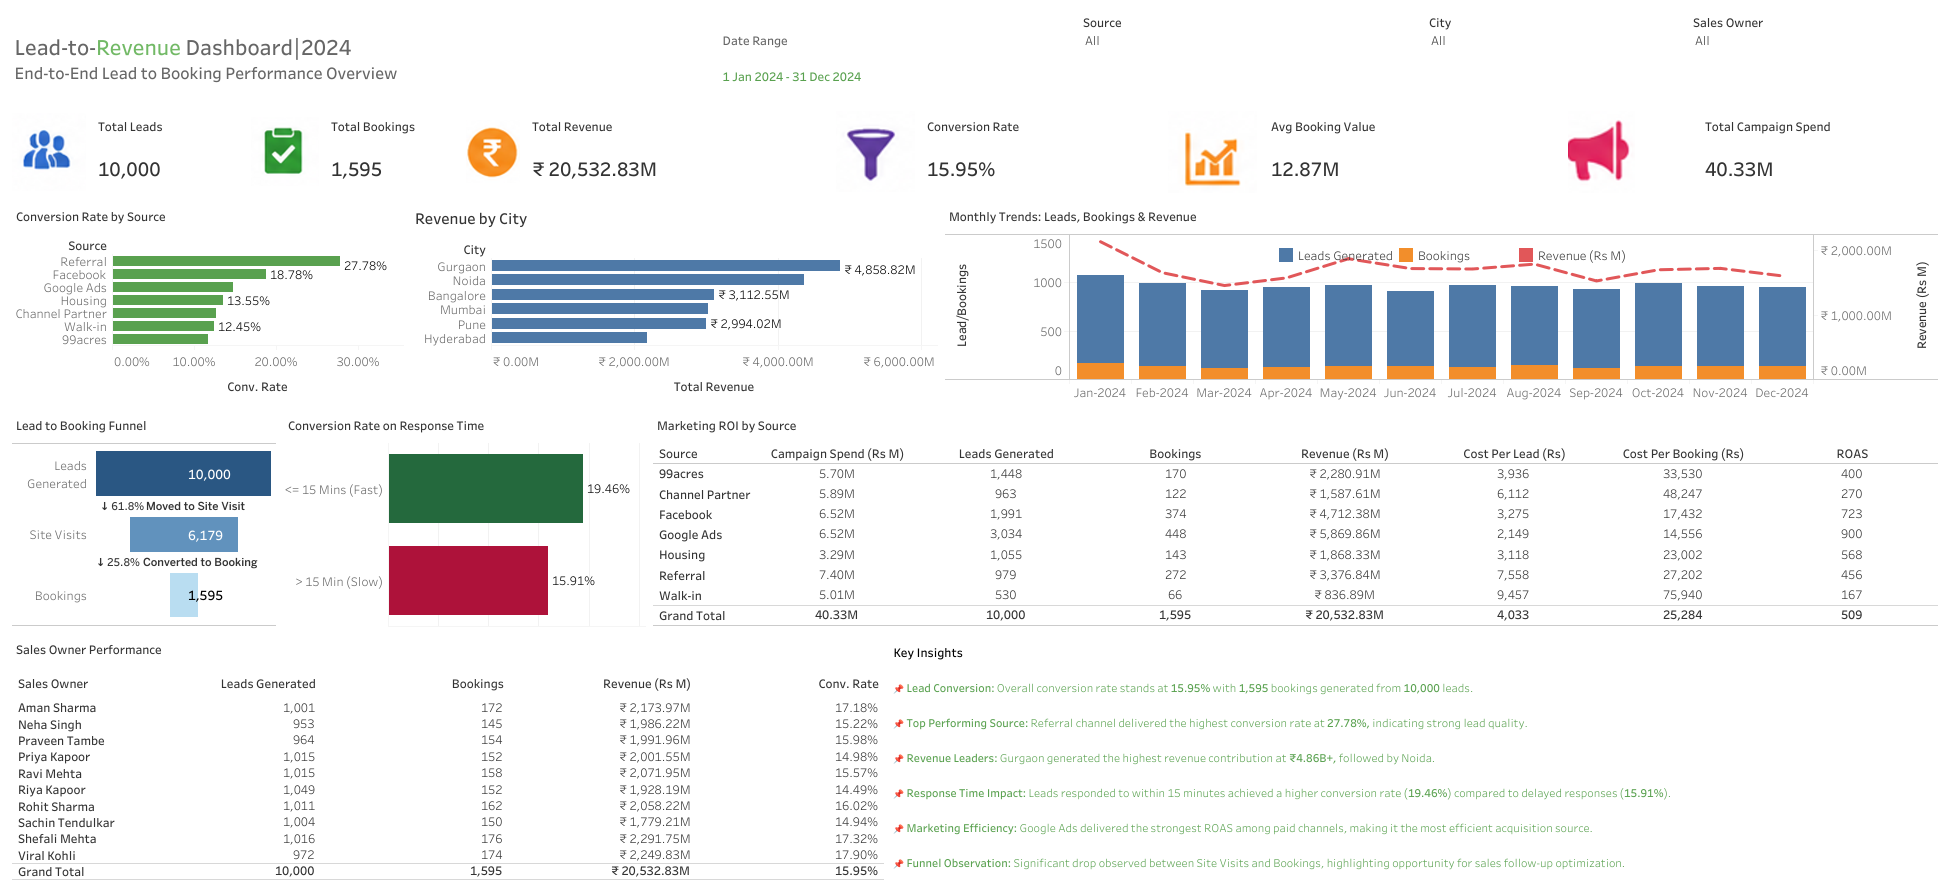

The dashboard page shown, as its layout file describes it:
{"tool":"tableau","page":{"name":"Lead-Revenue_Dashboard","canvas":[1000,1000],"units":"permille","ordinal":1},"visuals":[{"type":"text","box":[5,9.4,362.6,111.5]},{"type":"text","box":[367.6,9.4,363,111.5]},{"type":"filter","title":"Marketing ROI by Source","param":"[federated.0uogw4f1fpyylf16rzx6d1dv36tx].[none:City:nk]","box":[730.6,9.4,134.8,111.5]},{"type":"filter","title":"Marketing ROI by Source","param":"[federated.0uogw4f1fpyylf16rzx6d1dv36tx].[none:SalesOwner:nk]","box":[865.4,9.4,129.7,111.5]},{"type":"filter","title":"Marketing ROI by Source","param":"[federated.0uogw4f1fpyylf16rzx6d1dv36tx].[none:Source:nk]","box":[555.4,12.9,158.3,102.2]},{"type":"image","param":"Image/grouplog.png","box":[5,120.9,50.7,100]},{"type":"worksheet","title":"Total Leads","mark":"Text","box":[55.7,120.9,97.1,100]},{"type":"image","param":"Image/CheckBox.png","box":[152.8,120.9,47,100]},{"type":"worksheet","title":"Total Bookings","mark":"Automatic","box":[199.8,120.9,86,100]},{"type":"image","param":"Image/RsSign.png","box":[285.7,120.9,38.4,100]},{"type":"worksheet","title":"Total Revenue","mark":"Automatic","box":[324.1,120.9,102.8,100]},{"type":"image","param":"Image/funnel.png","box":[426.9,120.9,44.5,100]},{"type":"worksheet","title":"Conversion Rate","mark":"Automatic","box":[471.4,120.9,114.5,100]},{"type":"image","param":"Image/graph.png","box":[586,120.9,61.9,100]},{"type":"worksheet","title":"Avg Booking Value","mark":"Automatic","box":[647.8,120.9,114.5,100]},{"type":"image","param":"Image/AnnounceBaja.png","box":[762.4,120.9,118.1,100]},{"type":"worksheet","title":"Total Campaign Spend","mark":"Automatic","box":[880.5,120.9,114.5,100]},{"type":"worksheet","title":"Conversion Rate by Source","mark":"Automatic","rows":["Source"],"cols":["Calculation_1502759273517060"],"box":[5,220.8,246.8,235.3]},{"type":"worksheet","title":"Revenue by City","mark":"Automatic","rows":["City"],"cols":["Calculation_1502759273332739"],"box":[251.7,220.8,330.2,235.3]},{"type":"worksheet","title":"Monthly Trends","mark":"Bar","rows":["Calculation_1502759273332739"],"cols":["LeadDate"],"box":[582,220.8,413.1,235.3]},{"type":"legend","title":"Monthly Trends","param":"[federated.0uogw4f1fpyylf16rzx6d1dv36tx].[:Measure Names]","box":[654.4,275,318,70.5]},{"type":"worksheet","title":"Lead to Booking Funnel","mark":"Bar","box":[5,456.1,164,250.2]},{"type":"worksheet","title":"Conversion Rate on Response Time","mark":"Automatic","rows":["Calculation_1502759277502470"],"cols":["Calculation_1502759273517060"],"box":[169,456.1,164,250.2]},{"type":"worksheet","title":"Marketing ROI by Source","mark":"Automatic","rows":["Source"],"box":[333,456.1,662,250.2]},{"type":"worksheet","title":"Visit Rate","mark":"Automatic","box":[49.5,557,131.1,25.9]},{"type":"worksheet","title":"Booking Rate","mark":"Automatic","box":[47,619.3,138.5,25.9]},{"type":"worksheet","title":"Sales Owner Performance","mark":"Automatic","rows":["SalesOwner"],"box":[5,706.4,449.8,284.2]},{"type":"text","box":[454.8,706.4,540.3,284.2]}]}

Visuals, with their boxes on the dashboard's canvas, which has no fixed pixel size, in thousandths of its width and height (x1, y1, x2, y2). These are canvas units, not pixel positions in the 1949x890 screenshot, which may show the page scaled, cropped or inside an application window:
text: <region>5, 9, 368, 121</region>
text: <region>368, 9, 731, 121</region>
"Marketing ROI by Source" filter: <region>731, 9, 865, 121</region>
"Marketing ROI by Source" filter: <region>865, 9, 995, 121</region>
"Marketing ROI by Source" filter: <region>555, 13, 714, 115</region>
image: <region>5, 121, 56, 221</region>
"Total Leads" worksheet (Text marks): <region>56, 121, 153, 221</region>
image: <region>153, 121, 200, 221</region>
"Total Bookings" worksheet: <region>200, 121, 286, 221</region>
image: <region>286, 121, 324, 221</region>
"Total Revenue" worksheet: <region>324, 121, 427, 221</region>
image: <region>427, 121, 471, 221</region>
"Conversion Rate" worksheet: <region>471, 121, 586, 221</region>
image: <region>586, 121, 648, 221</region>
"Avg Booking Value" worksheet: <region>648, 121, 762, 221</region>
image: <region>762, 121, 880, 221</region>
"Total Campaign Spend" worksheet: <region>880, 121, 995, 221</region>
"Conversion Rate by Source" worksheet: <region>5, 221, 252, 456</region>
"Revenue by City" worksheet: <region>252, 221, 582, 456</region>
"Monthly Trends" worksheet (Bar marks): <region>582, 221, 995, 456</region>
"Monthly Trends" legend: <region>654, 275, 972, 346</region>
"Lead to Booking Funnel" worksheet (Bar marks): <region>5, 456, 169, 706</region>
"Conversion Rate on Response Time" worksheet: <region>169, 456, 333, 706</region>
"Marketing ROI by Source" worksheet: <region>333, 456, 995, 706</region>
"Visit Rate" worksheet: <region>50, 557, 181, 583</region>
"Booking Rate" worksheet: <region>47, 619, 186, 645</region>
"Sales Owner Performance" worksheet: <region>5, 706, 455, 991</region>
text: <region>455, 706, 995, 991</region>
